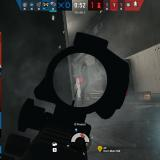Character: (80, 61, 89, 105)
Head: (81, 62, 87, 68)
